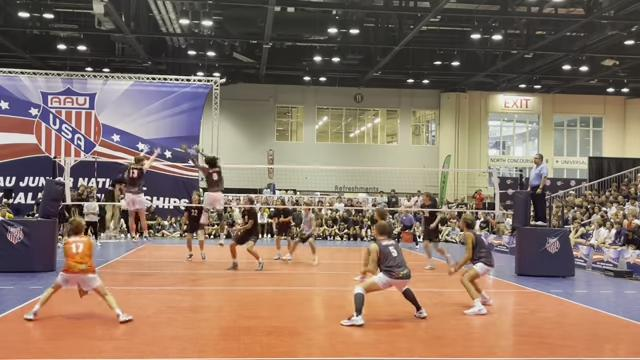Block: (184, 142, 236, 249), (118, 146, 163, 244)
Player: (24, 218, 132, 322), (341, 221, 426, 325), (449, 214, 494, 314), (227, 197, 263, 270), (421, 193, 450, 269), (286, 200, 317, 264), (184, 193, 205, 260), (272, 198, 292, 259), (373, 208, 388, 226)
